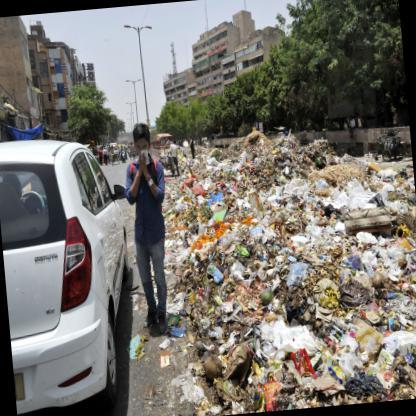Garbage: (173, 156, 355, 354), (178, 141, 339, 326), (204, 218, 346, 414), (248, 188, 404, 360), (274, 168, 415, 312), (206, 272, 342, 415), (301, 246, 415, 407), (169, 164, 204, 340)
